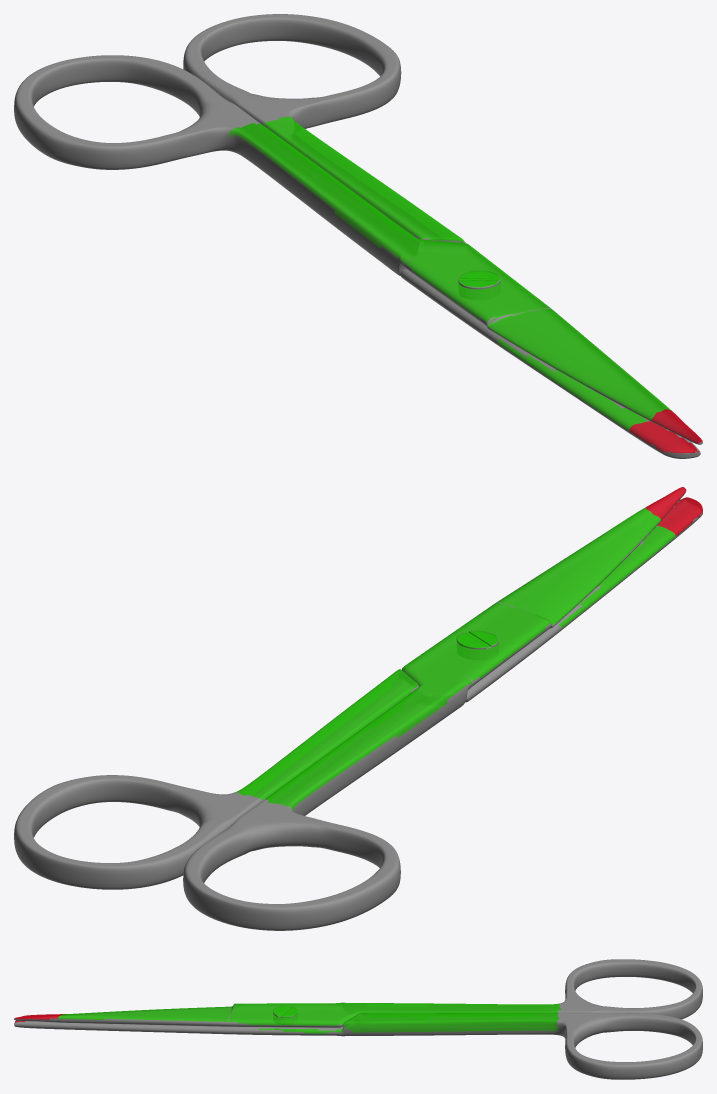
The model's file is grip_zone_scissors.fbx.
3 views of the same model, one above another, from view 1: azimuth 30°, elevation 25°; view 2: azimuth 150°, elevation 25°; view 3: azimuth 270°, elevation 25° (orthographic). The views are drawn at different scales.
Visible parts, largest first — view 1: Surgical_scissors.001; view 2: Surgical_scissors.001; view 3: Surgical_scissors.001.
Boxes of the visible parts, box(x1,y1,x2,y2) form: Surgical_scissors.001: box(14, 14, 702, 458); Surgical_scissors.001: box(14, 487, 702, 930); Surgical_scissors.001: box(14, 959, 702, 1079).
Size of the model in its own units: 4.28 by 0.295 by 11.5.
